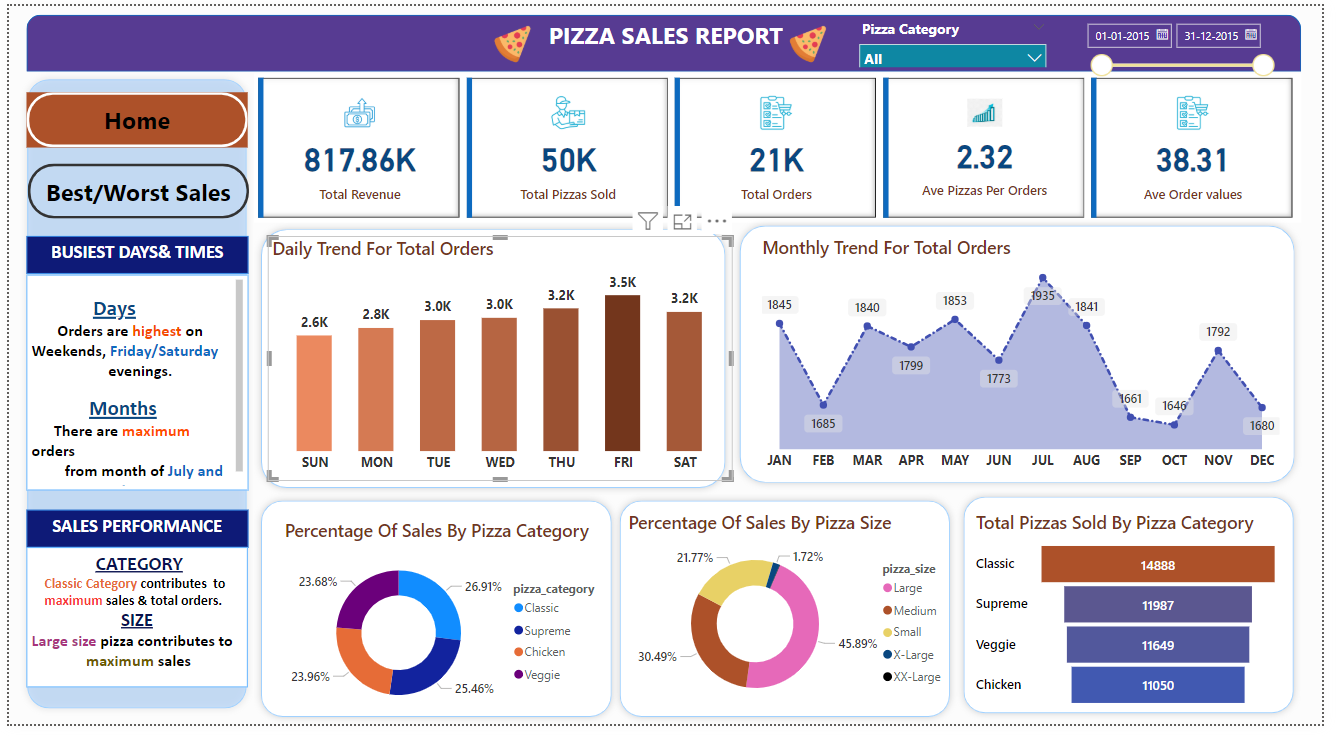

This screenshot's page, from the dashboard's own definition file:
{"tool":"powerbi","page":{"name":"Home","canvas":[1500,820],"ordinal":0},"visuals":[{"type":"shape","box":[13.3,75,266.7,735],"z":0},{"type":"cardVisual","fields":{"Data":["pizza_sales.Total Revenue","pizza_sales.Total Pizzas Sold","pizza_sales.Total Orders","pizza_sales.Ave Pizzas Per Orders","pizza_sales.Ave Order values"]},"box":[280,76.7,1196.7,170],"z":1000},{"type":"shape","box":[20,10,1456.7,65],"z":2000},{"type":"textbox","box":[587.9,10.6,324.2,65.2],"z":3000},{"type":"image","box":[531.8,16.7,87.9,53],"z":4000},{"type":"image","box":[863.6,16.7,97,53],"z":5000},{"type":"shape","box":[280,246.7,546.7,311.7],"z":6000},{"type":"columnChart","title":"Daily Trend For Total Orders","fields":{"Category":["pizza_sales.DAY_ORDER"],"Y":["pizza_sales.Total Orders"]},"box":[295,263.3,531.7,280],"z":7000},{"type":"shape","box":[826.7,243.3,650,310],"z":8000},{"type":"areaChart","title":"Monthly Trend For Total Orders","fields":{"Category":["pizza_sales.MONTH_ORDER"],"Y":["pizza_sales.Total Orders"]},"box":[855,261.7,601.7,278.3],"z":9000},{"type":"shape","box":[280,556.7,416.7,263.3],"z":10000},{"type":"shape","box":[690,556.7,393.3,263.3],"z":11000},{"type":"shape","box":[1083.3,553.3,393.3,263.3],"z":12000},{"type":"donutChart","title":"Percentage Of Sales By Pizza Category","fields":{"Category":["pizza_sales.pizza_category"],"Y":["pizza_sales.Total Revenue"]},"box":[310,585,380,235],"z":13000},{"type":"donutChart","title":"Percentage Of Sales By Pizza Size","fields":{"Y":["pizza_sales.Total Revenue"],"Category":["pizza_sales.pizza_size"]},"box":[703.3,575,380,235],"z":14000},{"type":"funnel","title":"Total Pizzas Sold By Pizza Category","fields":{"Category":["pizza_sales.pizza_category"],"Y":["pizza_sales.Total Pizzas Sold"]},"box":[1100,575,356.7,230],"z":15000},{"type":"textbox","box":[20,263.3,253.3,43.3],"z":16000},{"type":"textbox","box":[20,306.7,253.3,246.7],"z":17000},{"type":"textbox","box":[20,575,253.3,43.3],"z":18000},{"type":"textbox","box":[20,618.6,252.9,160],"z":19000},{"type":"slicer","fields":{"Values":["pizza_sales.pizza_category"]},"box":[961.4,10,234.3,60],"z":20000},{"type":"slicer","fields":{"Values":["pizza_sales.order_date"]},"box":[1220,10,234.3,77.1],"z":21000},{"type":"actionButton","box":[21.4,180,252.9,62.9],"z":21001},{"type":"actionButton","box":[20,98.6,252.9,62.9],"z":21002}]}

Visuals, with their boxes in screenshot pixels (x1, y1, x2, y2), scaled from the page's 1500x820 canvas onto the 1336x736 screenshot:
shape: [12, 67, 249, 727]
cardVisual - pizza_sales.Total Revenue x pizza_sales.Total Pizzas Sold: [249, 69, 1315, 221]
shape: [18, 9, 1315, 67]
textbox: [524, 10, 812, 68]
image: [474, 15, 552, 63]
image: [769, 15, 856, 63]
shape: [249, 221, 736, 501]
"Daily Trend For Total Orders" columnChart: [263, 236, 736, 488]
shape: [736, 218, 1315, 497]
"Monthly Trend For Total Orders" areaChart: [762, 235, 1297, 485]
shape: [249, 500, 621, 735]
shape: [615, 500, 965, 735]
shape: [965, 497, 1315, 733]
"Percentage Of Sales By Pizza Category" donutChart: [276, 525, 615, 735]
"Percentage Of Sales By Pizza Size" donutChart: [626, 516, 965, 727]
"Total Pizzas Sold By Pizza Category" funnel: [980, 516, 1297, 723]
textbox: [18, 236, 243, 275]
textbox: [18, 275, 243, 497]
textbox: [18, 516, 243, 555]
textbox: [18, 555, 243, 699]
slicer - pizza_sales.pizza_category: [856, 9, 1065, 63]
slicer - pizza_sales.order_date: [1087, 9, 1295, 78]
actionButton: [19, 162, 244, 218]
actionButton: [18, 88, 243, 145]
